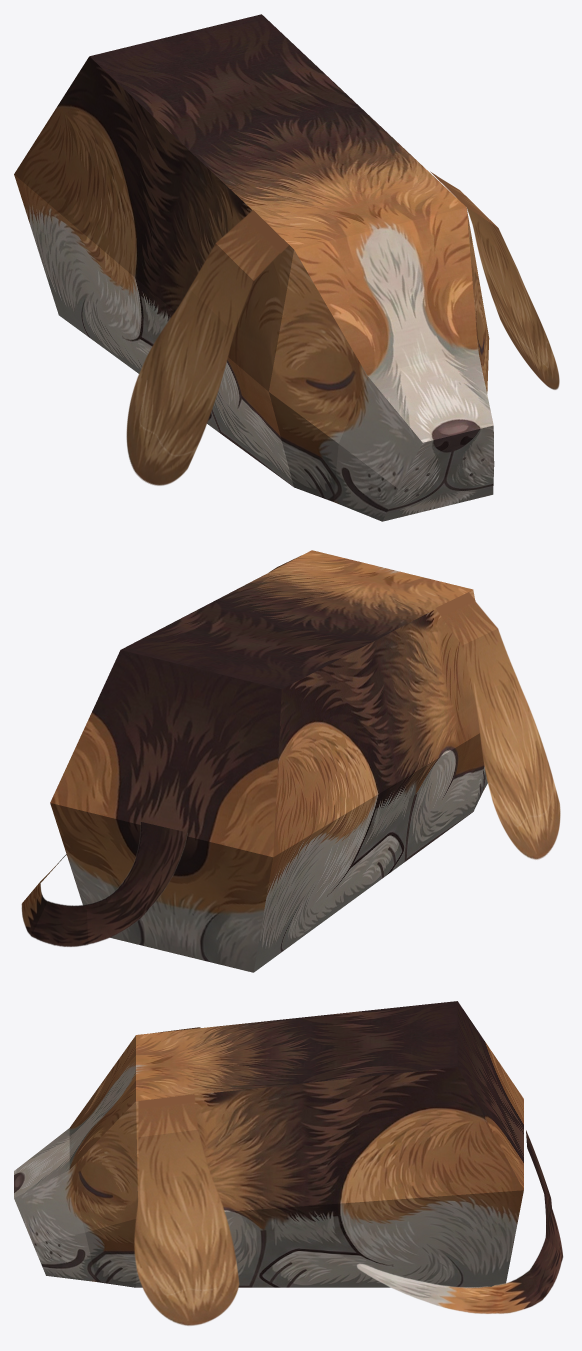
The model's file is Perro durmiendo-b93e216d.glb.
3 views of the same model, one above another, from view 1: azimuth 30°, elevation 25°; view 2: azimuth 150°, elevation 25°; view 3: azimuth 270°, elevation 25° (orthographic). The views are drawn at different scales.
Visible parts, largest first — view 1: Perrito durmiendo; view 2: Perrito durmiendo; view 3: Perrito durmiendo.
Part boxes in pixels (box(x1,y1,x2,y2)): Perrito durmiendo: box(14, 14, 559, 521); Perrito durmiendo: box(21, 550, 560, 972); Perrito durmiendo: box(14, 1001, 563, 1325).
Size of the model in its own units: 0.371 by 0.2501 by 0.558.
2 materials, 2 textured.
